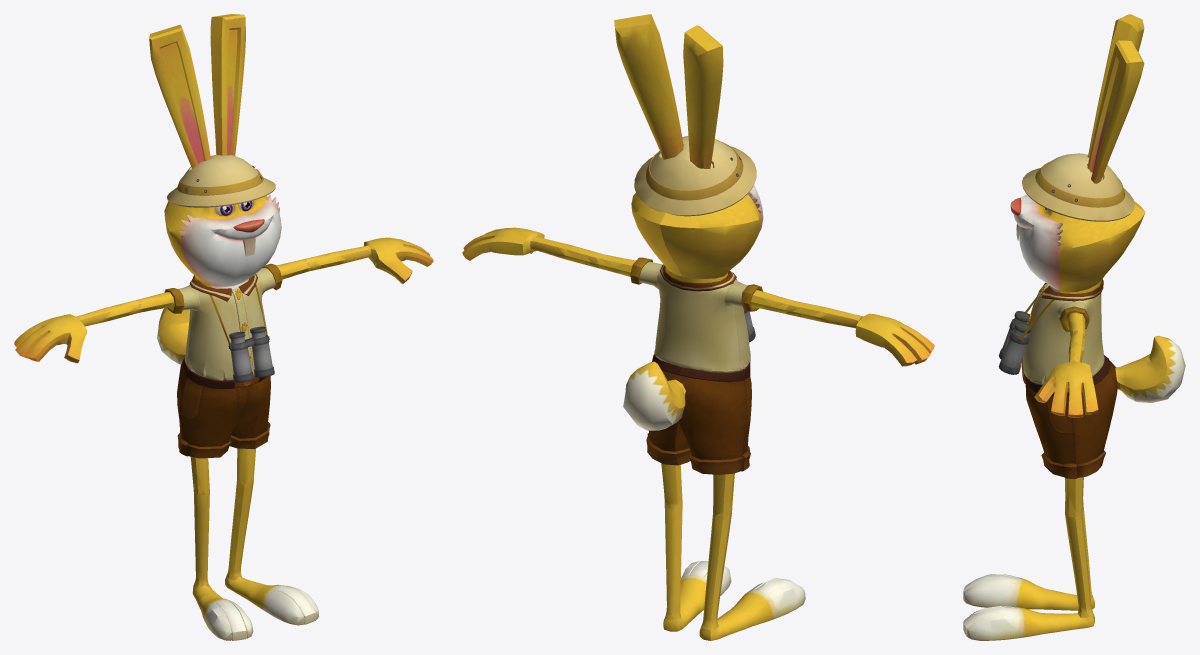
File: luobotu.glb
3 views of the same model, side by side, from view 1: azimuth 30°, elevation 25°; view 2: azimuth 150°, elevation 25°; view 3: azimuth 270°, elevation 25° (orthographic). The views are drawn at different scales.
Parts seen in each view (by area): view 1: Object_2; view 2: Object_2; view 3: Object_2.
Part boxes in pixels (x1=…): Object_2: x1=14, y1=14, x2=433, y2=640; Object_2: x1=462, y1=14, x2=934, y2=640; Object_2: x1=963, y1=14, x2=1185, y2=640.
Bounding box in the file's own units: 0.0777 × 0.1006 × 0.0346.
1 material, 1 textured.
